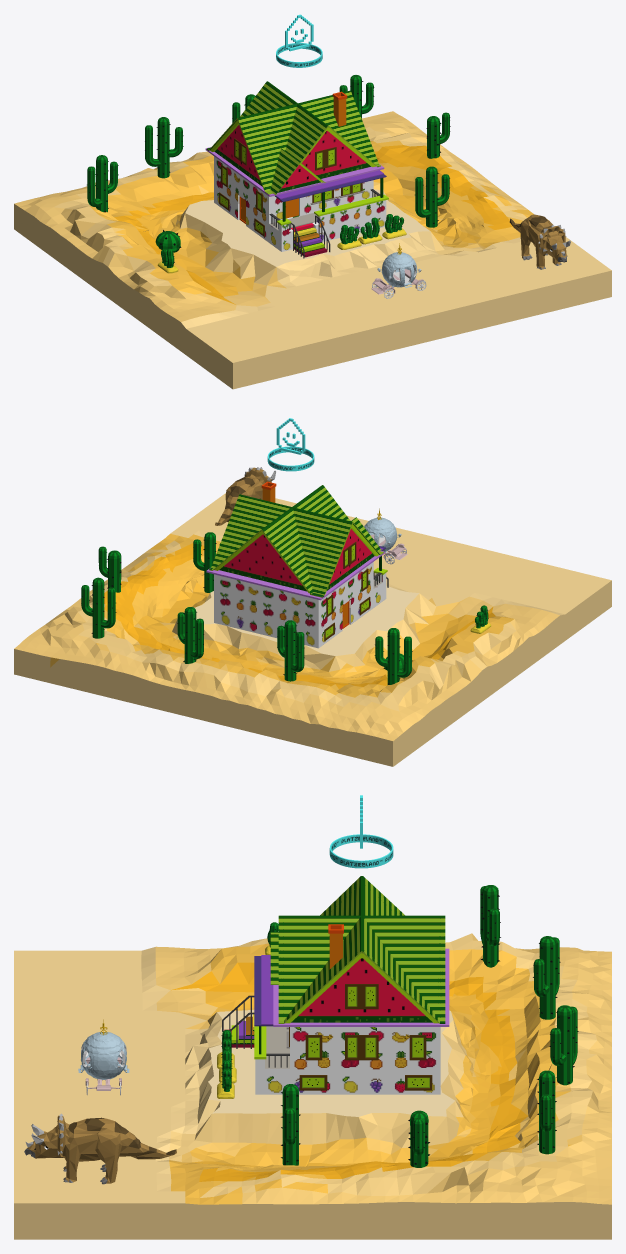
3 views of the same model, one above another, from view 1: azimuth 30°, elevation 25°; view 2: azimuth 150°, elevation 25°; view 3: azimuth 270°, elevation 25° (orthographic). The views are drawn at different scales.
Visible parts, largest first — view 1: Cube.001, Cube.1063, ANIMAL_Triceratops, VEHICLES_FANTASY_CARRIAGE, Cylinder.044, Cylinder.037, Cylinder.045, TYPE_PREMIUM, Cylinder.038, Cylinder.042; view 2: Cube.001, Cube.1063, Cylinder.042, Cylinder.045, Cylinder.044, ANIMAL_Triceratops, Cylinder.043, VEHICLES_FANTASY_CARRIAGE, TYPE_PREMIUM, Cylinder.037, Cylinder.038; view 3: Cube.001, Cube.1063, ANIMAL_Triceratops, VEHICLES_FANTASY_CARRIAGE, Cylinder.044, Cylinder.043, Cylinder.045, Cylinder.042, Cylinder.037, TYPE_PREMIUM, Cylinder.038.
Boxes of the visible parts, box(x1,y1,x2,y2) form: Cube.001: box(14, 111, 611, 389); Cube.1063: box(205, 81, 388, 258); ANIMAL_Triceratops: box(509, 214, 570, 269); VEHICLES_FANTASY_CARRIAGE: box(371, 243, 426, 298); Cylinder.044: box(145, 117, 183, 178); Cylinder.037: box(415, 166, 449, 227); Cylinder.045: box(87, 155, 118, 212); TYPE_PREMIUM: box(276, 14, 322, 67); Cylinder.038: box(426, 112, 450, 158); Cylinder.042: box(339, 75, 374, 118); Cube.001: box(14, 493, 611, 766); Cube.1063: box(206, 481, 388, 648); Cylinder.042: box(81, 577, 116, 638); Cylinder.045: box(374, 628, 412, 684); Cylinder.044: box(277, 620, 304, 681); ANIMAL_Triceratops: box(215, 467, 275, 525); Cylinder.043: box(177, 607, 203, 663); VEHICLES_FANTASY_CARRIAGE: box(364, 508, 407, 564); TYPE_PREMIUM: box(267, 418, 314, 471); Cylinder.037: box(193, 532, 220, 592); Cylinder.038: box(98, 546, 121, 592); Cube.001: box(14, 933, 611, 1239); Cube.1063: box(222, 876, 449, 1094); ANIMAL_Triceratops: box(24, 1113, 176, 1184); VEHICLES_FANTASY_CARRIAGE: box(78, 1019, 129, 1095); Cylinder.044: box(533, 936, 560, 1019); Cylinder.043: box(549, 1005, 578, 1085); Cylinder.045: box(480, 885, 500, 967); Cylinder.042: box(537, 1070, 556, 1154); Cylinder.037: box(281, 1084, 300, 1165); TYPE_PREMIUM: box(329, 795, 393, 868); Cylinder.038: box(408, 1110, 429, 1167).
Bounding box in the file's own units: 4002 × 2445 × 4001.
Materials: 27 (5 with a texture image).
